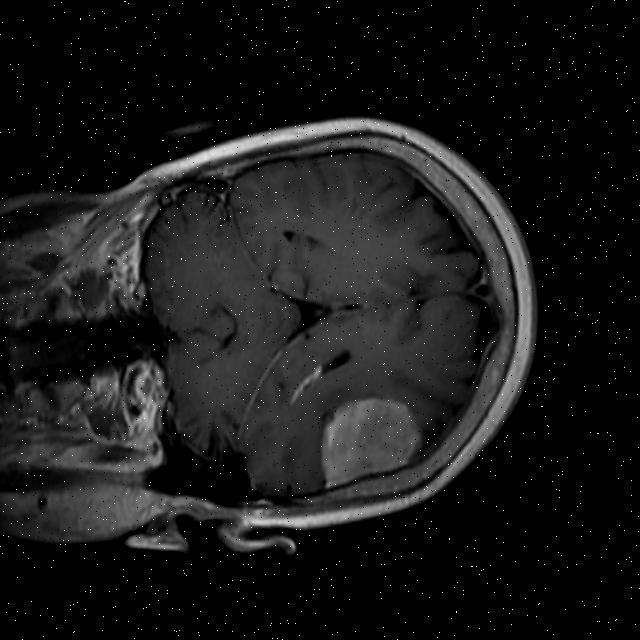Meningioma: (309, 390, 429, 492)
